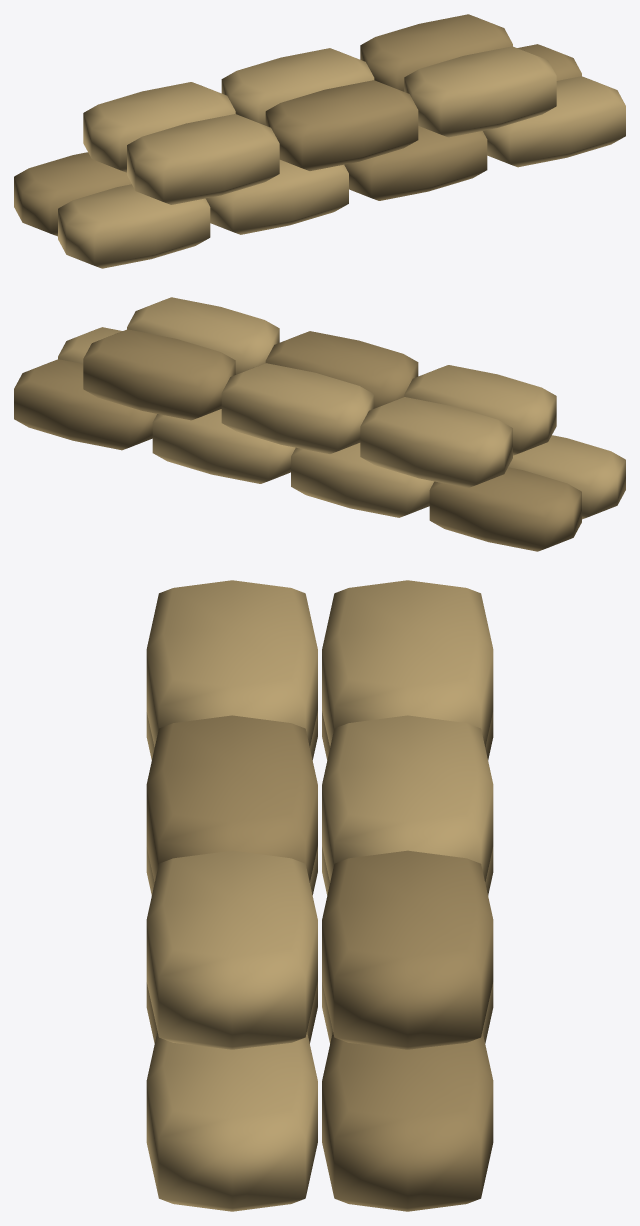
The model's file is sandbag_wall_low.glb.
The picture shows the model from 3 angles, top to bottom: view 1: azimuth 30°, elevation 25°; view 2: azimuth 150°, elevation 25°; view 3: azimuth 270°, elevation 25°; orthographic projection. The views are drawn at different scales.
Visible parts, largest first — view 1: sandbag_wall_low; view 2: sandbag_wall_low; view 3: sandbag_wall_low.
Boxes of the visible parts, x1,y1,x2,y2 form: sandbag_wall_low: (14, 14, 625, 268); sandbag_wall_low: (14, 297, 625, 551); sandbag_wall_low: (146, 580, 493, 1211).
Size of the model in its own units: 2.47 by 0.42 by 0.6724.
